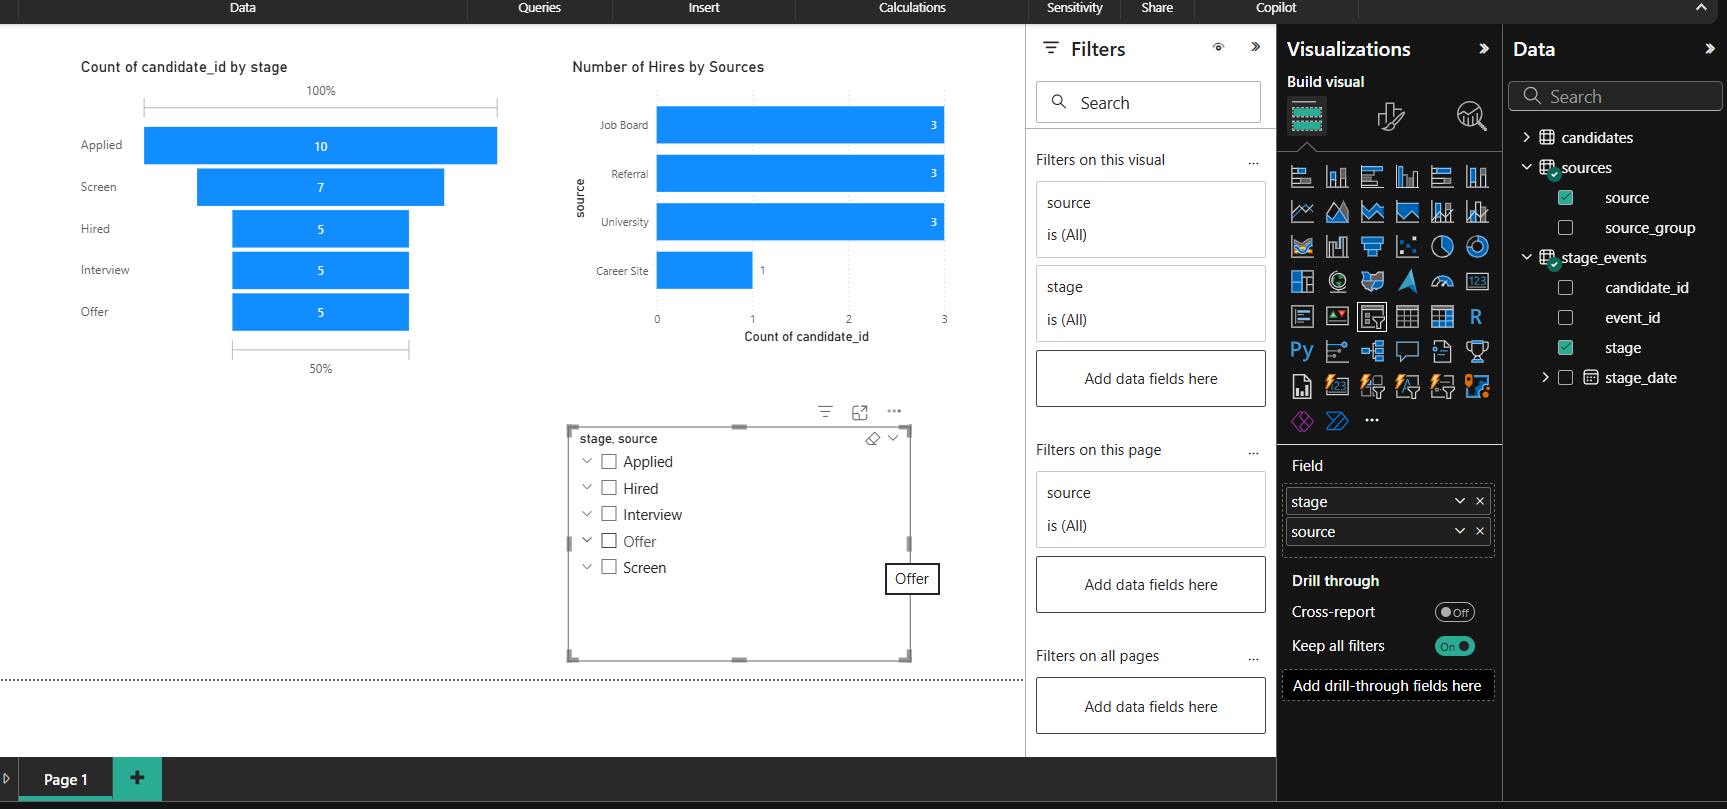

The dashboard page shown, as its layout file describes it:
{"tool":"powerbi","page":{"name":"Page 1","canvas":[1280,720],"ordinal":0},"visuals":[{"type":"funnel","fields":{"Y":["Count(stage_events.candidate_id)"],"Category":["stage_events.stage"]},"box":[10,0,280,280],"z":0},{"type":"slicer","fields":{"Values":["sources.source"]},"box":[10,290,280,280],"z":1000},{"type":"clusteredBarChart","title":"Number of Hires by Sources","fields":{"Category":["sources.source"],"Y":["Count(stage_events.candidate_id)"]},"box":[406.5,19.6,279.3,172.8],"z":2000}]}

Visuals, with their boxes on the page's 1280x720 design canvas (x1, y1, x2, y2). These are canvas units, not pixel positions in the 1727x809 screenshot, which may show the page scaled, cropped or inside an application window:
funnel - Count(stage_events.candidate_id) x stage_events.stage: [left=10, top=0, right=290, bottom=280]
slicer - sources.source: [left=10, top=290, right=290, bottom=570]
"Number of Hires by Sources" clusteredBarChart: [left=406, top=20, right=686, bottom=192]
